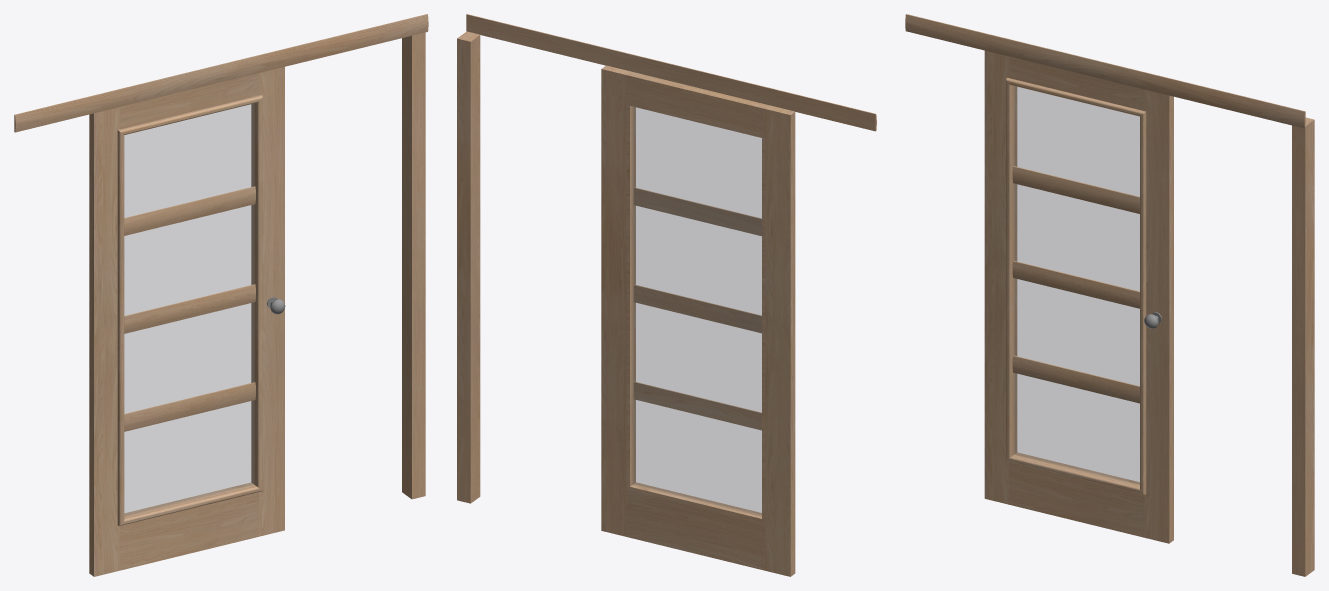
Rendered from door17.FBX.
3 renders of one model, left to right at view 1: azimuth 30°, elevation 25°; view 2: azimuth 150°, elevation 25°; view 3: azimuth 330°, elevation 25°, orthographic. The views are drawn at different scales.
Visible parts, largest first — view 1: doors, frame; view 2: doors, frame; view 3: doors, frame.
Boxes of the visible parts, box(x1,y1,x2,y2) form: doors: box(89, 67, 285, 576); frame: box(14, 14, 428, 499); doors: box(601, 65, 795, 576); frame: box(457, 14, 876, 503); doors: box(984, 50, 1173, 543); frame: box(905, 14, 1314, 576).
Size of the model in its own units: 197 by 220 by 15.24.
